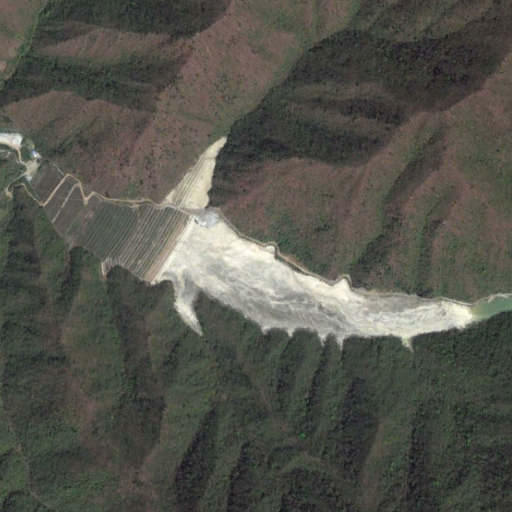tp: (27, 134, 512, 353)
